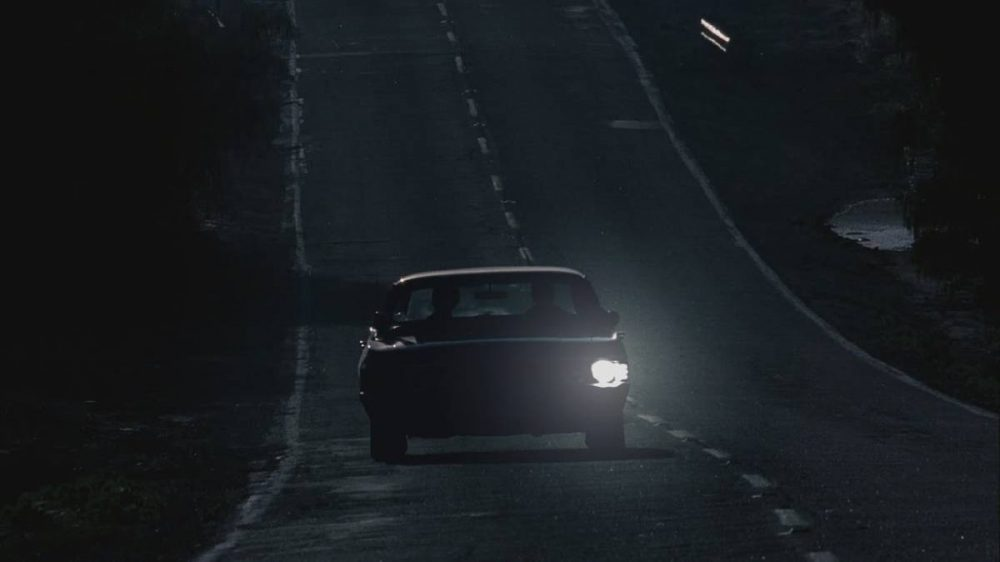car: (362, 268, 628, 459)
